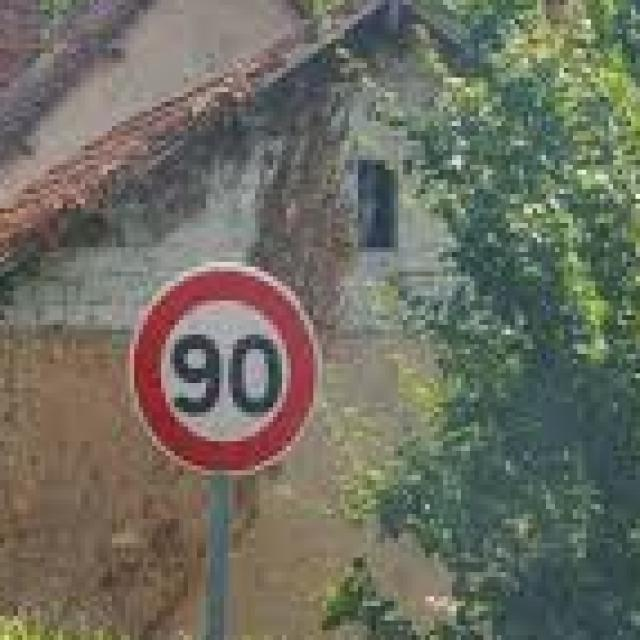Speed Limit -90-: (124, 260, 327, 486)
